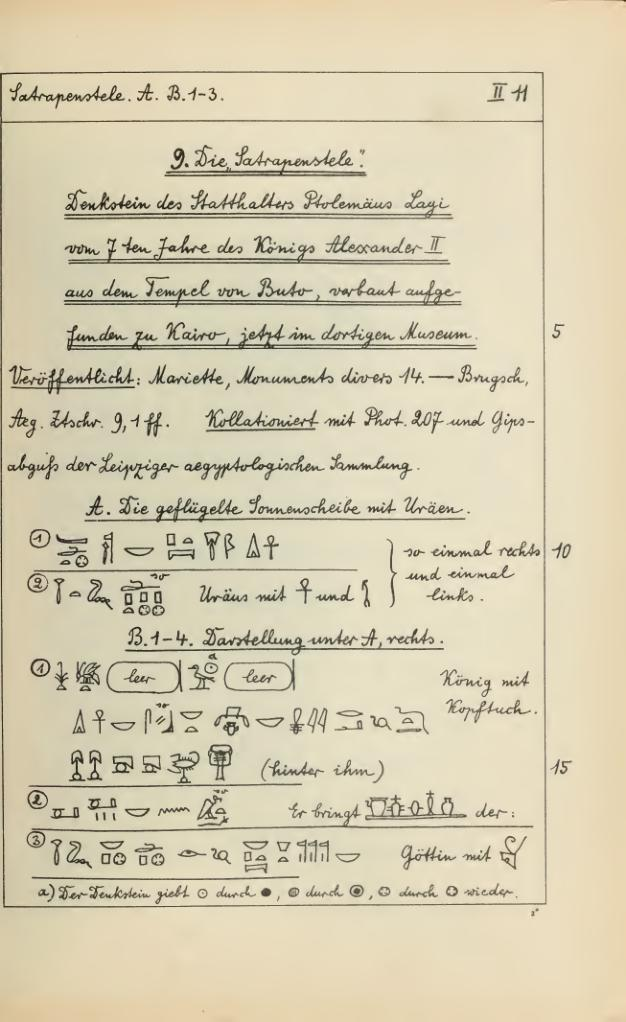circle: (89, 652, 200, 711), (214, 651, 317, 704)
